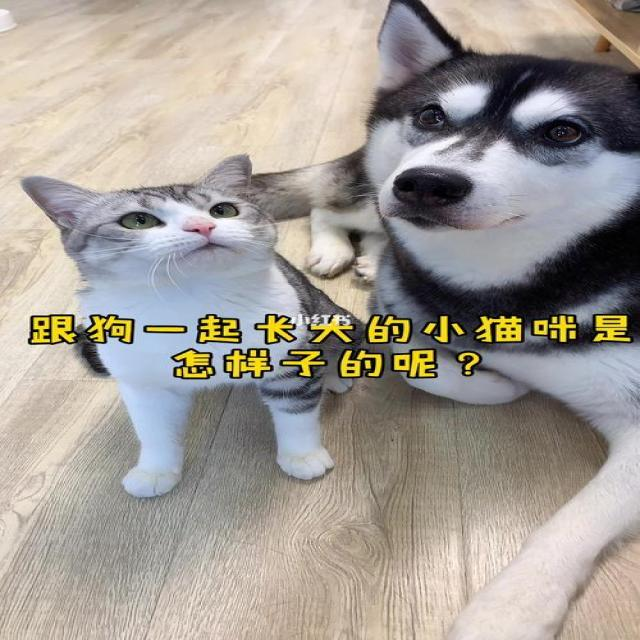cat: (13, 144, 302, 304)
dog: (304, 2, 640, 246)
